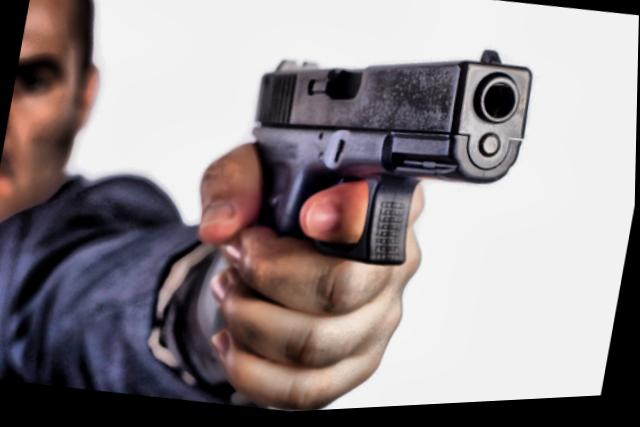pistol: (212, 11, 544, 385)
